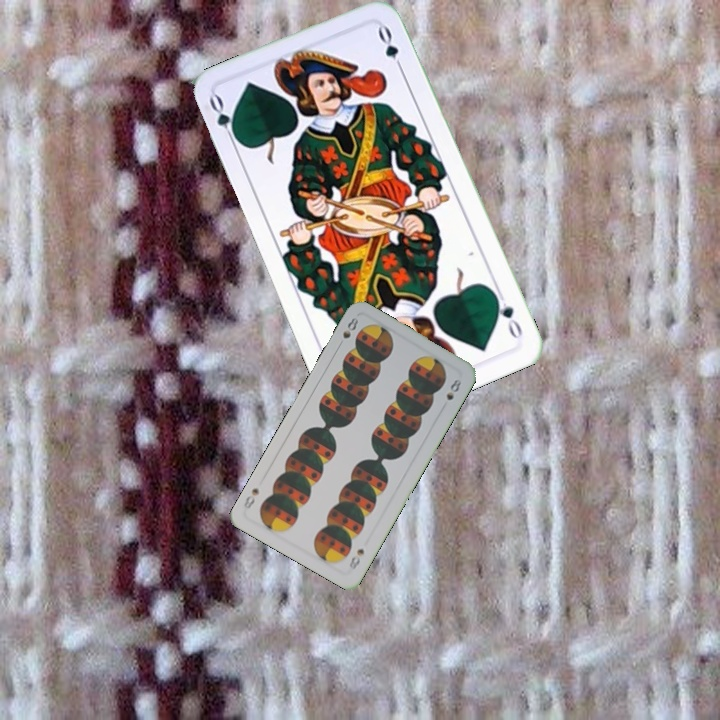GO: (205, 91, 243, 148), (489, 286, 525, 343)
S8: (335, 313, 361, 350), (345, 544, 367, 573)
